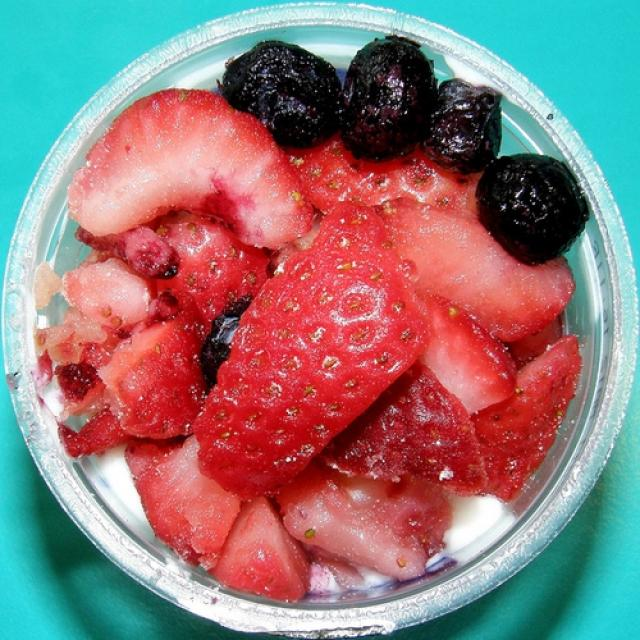蛋糕甜品: (13, 15, 623, 616)
